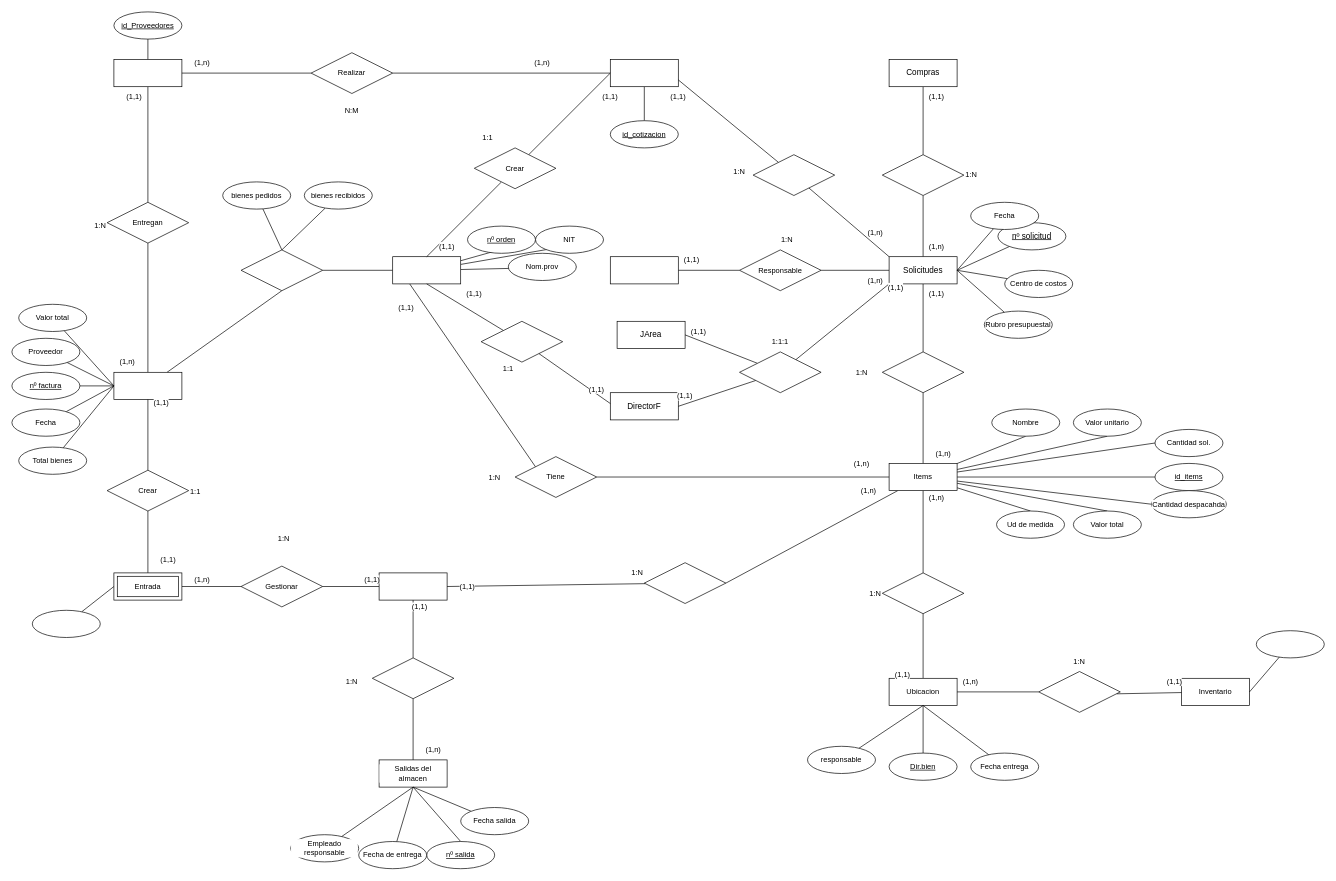
This 1336x881 diagram has some shape labels left out. The shapes that lost their labels are listed below. From the top down, each one's centre as x and y in pixels, then its label:
the point at 147,73: Proovedores
the point at 644,73: Cotización
the point at 793,175: Remitir
the point at 923,175: Recibir
the point at 281,270: Comparar
the point at 426,270: Orden contraactual
the point at 644,270: Empleado
the point at 521,341: Aprobar
the point at 147,386: Factura
the point at 780,372: Autorizar
the point at 923,372: Discriminar
the point at 412,586: Almacen
the point at 685,583: Recepcionar
the point at 923,593: Definir
the point at 66,624: nº entrada
the point at 1290,644: id_inventario
the point at 413,678: Registrar
the point at 1079,691: Gestiona
